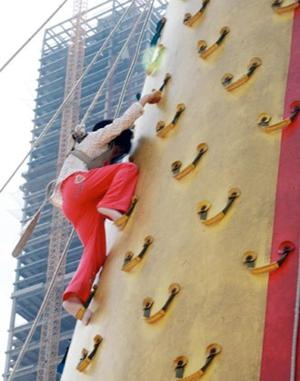person: (50, 89, 161, 325)
